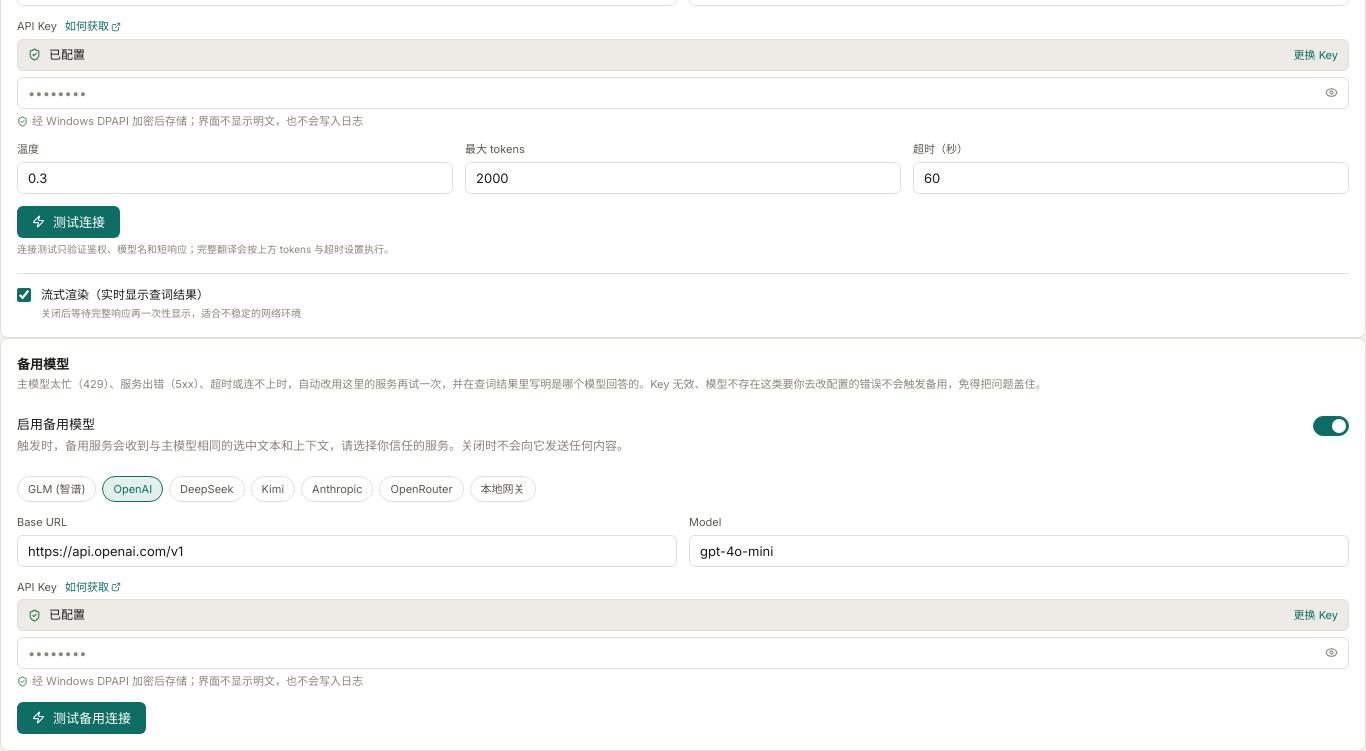
Scenario: the main and the backup model service in the settings › the backup › says why the backup test failed
The image size is (1366, 751).
(page scrolled)
Expected: the text "已配置" below "启用备用模型" is shown, [49,607,85,622]
Click the button "测试备用连接" at (82, 718), box [17,702,146,734]
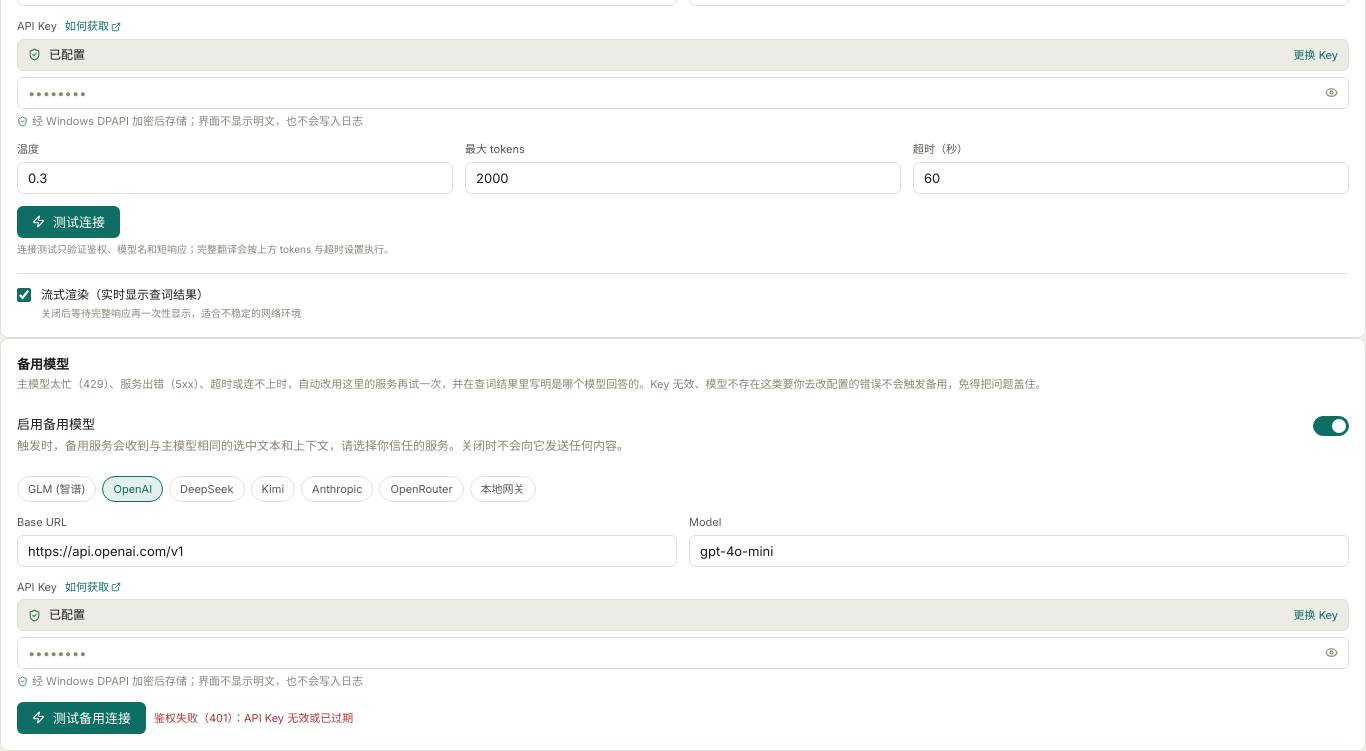
Expected: the message shows "401", [154,711,353,725]
